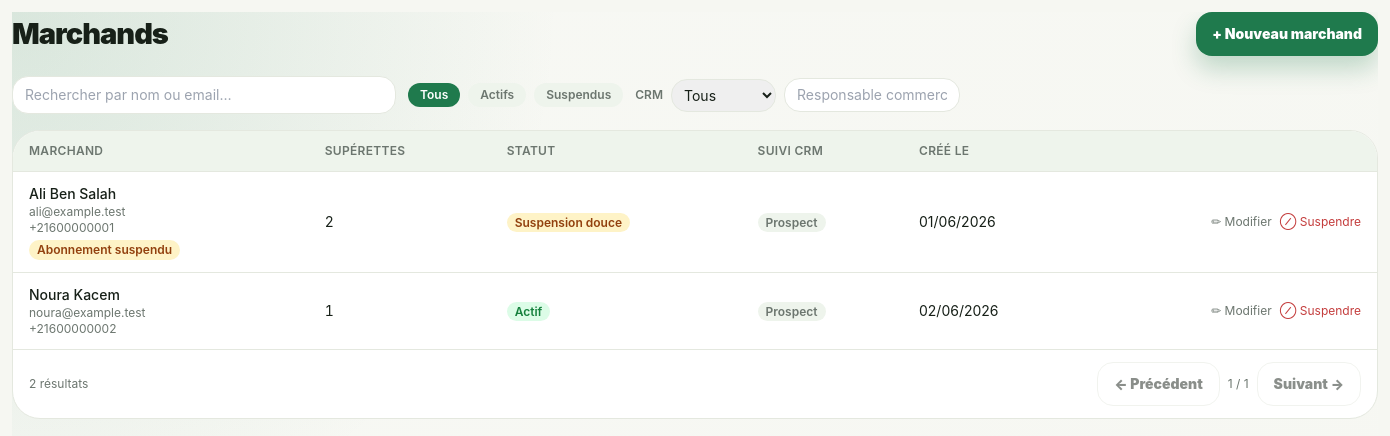
Scenario: MarchandsPage › classe une suspension douce abonnement dans le filtre suspendus
Expected: the text "Ali Ben Salah" is shown, [29, 185, 116, 202]
Click the button "Actifs" at coordinates (497, 95), box [468, 83, 526, 107]
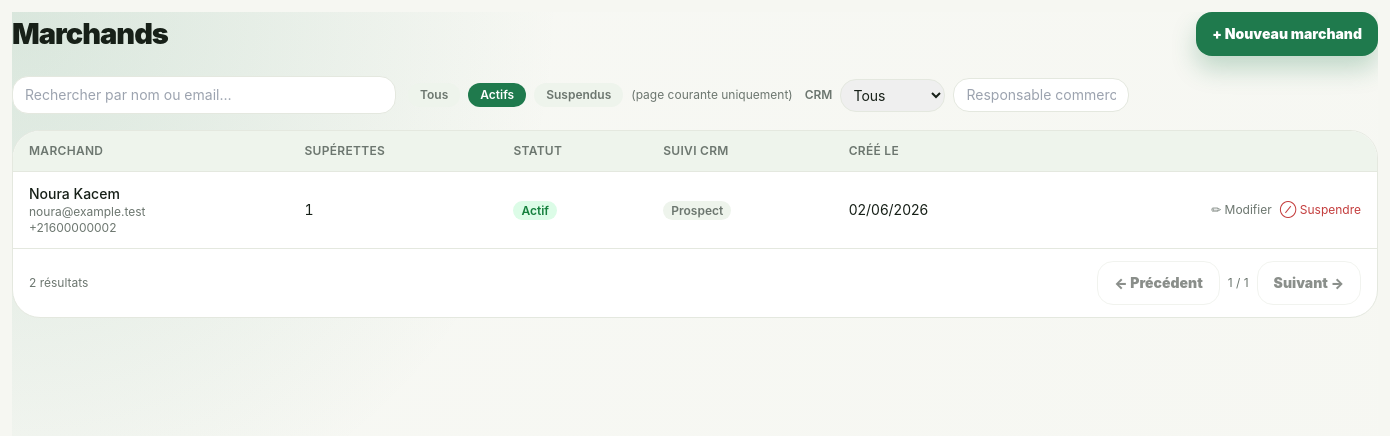
Expected: the text "Noura Kacem" is shown, [29, 185, 120, 202]
Expected: the text "Ali Ben Salah" is gone
Click the button "Suspendus" at coordinates (579, 95), box [534, 83, 623, 107]
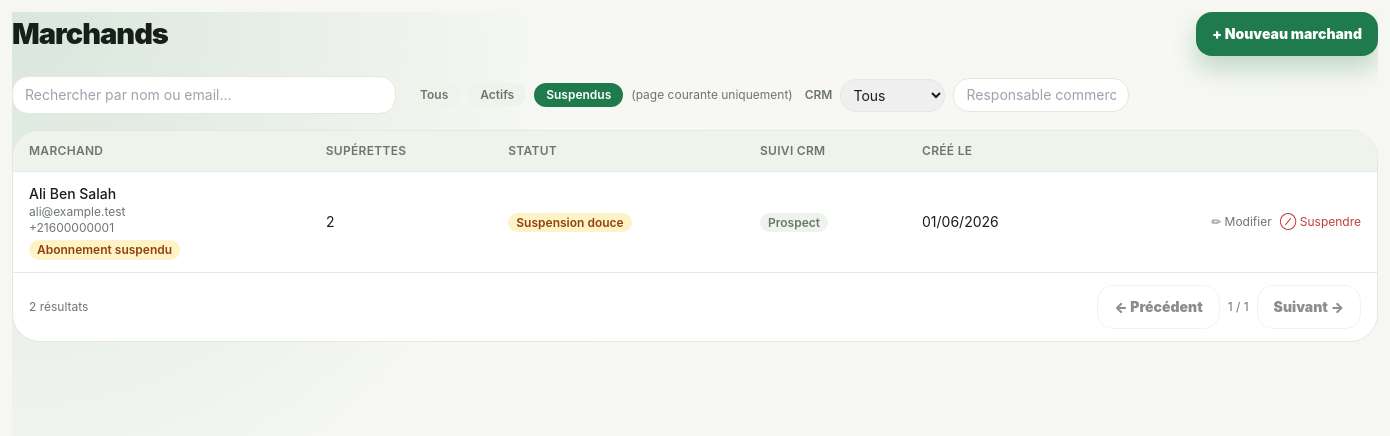
Expected: the text "Ali Ben Salah" is shown, [29, 185, 116, 202]
Expected: the text "Noura Kacem" is gone
